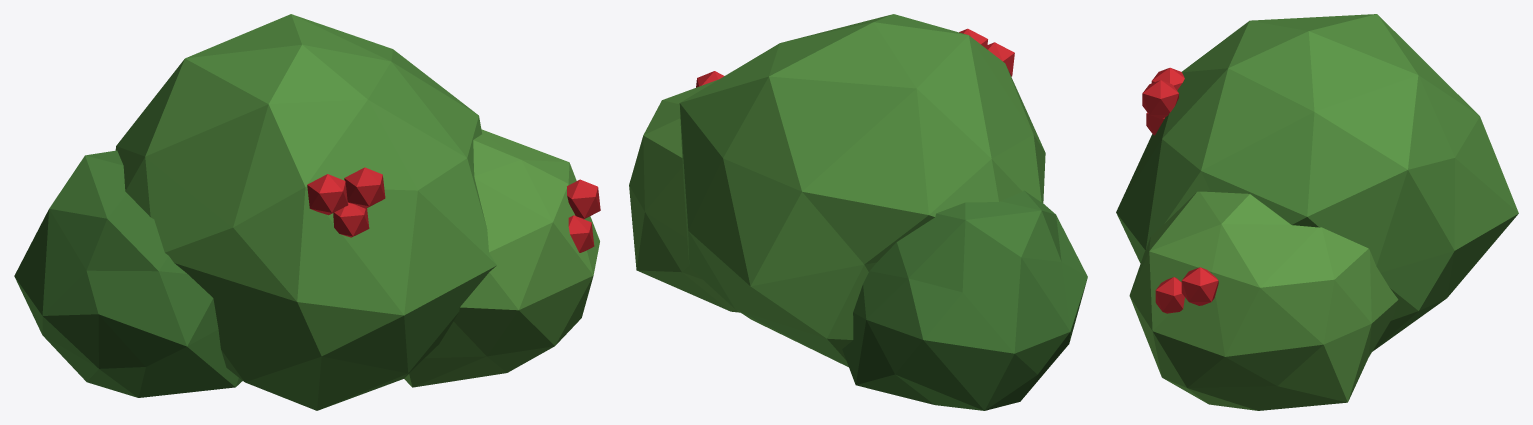
Rendered from bush.glb.
The picture shows the model from 3 angles, left to right: view 1: azimuth 30°, elevation 25°; view 2: azimuth 150°, elevation 25°; view 3: azimuth 270°, elevation 25°; orthographic projection. The views are drawn at different scales.
Parts seen in each view (by area): view 1: bush; view 2: bush; view 3: bush.
Part boxes in pixels (x1,y1,x2,y2): bush: [14, 14, 600, 410]; bush: [629, 14, 1087, 410]; bush: [1116, 14, 1518, 410].
Size of the model in its own units: 1.25 by 0.8383 by 0.9699.
